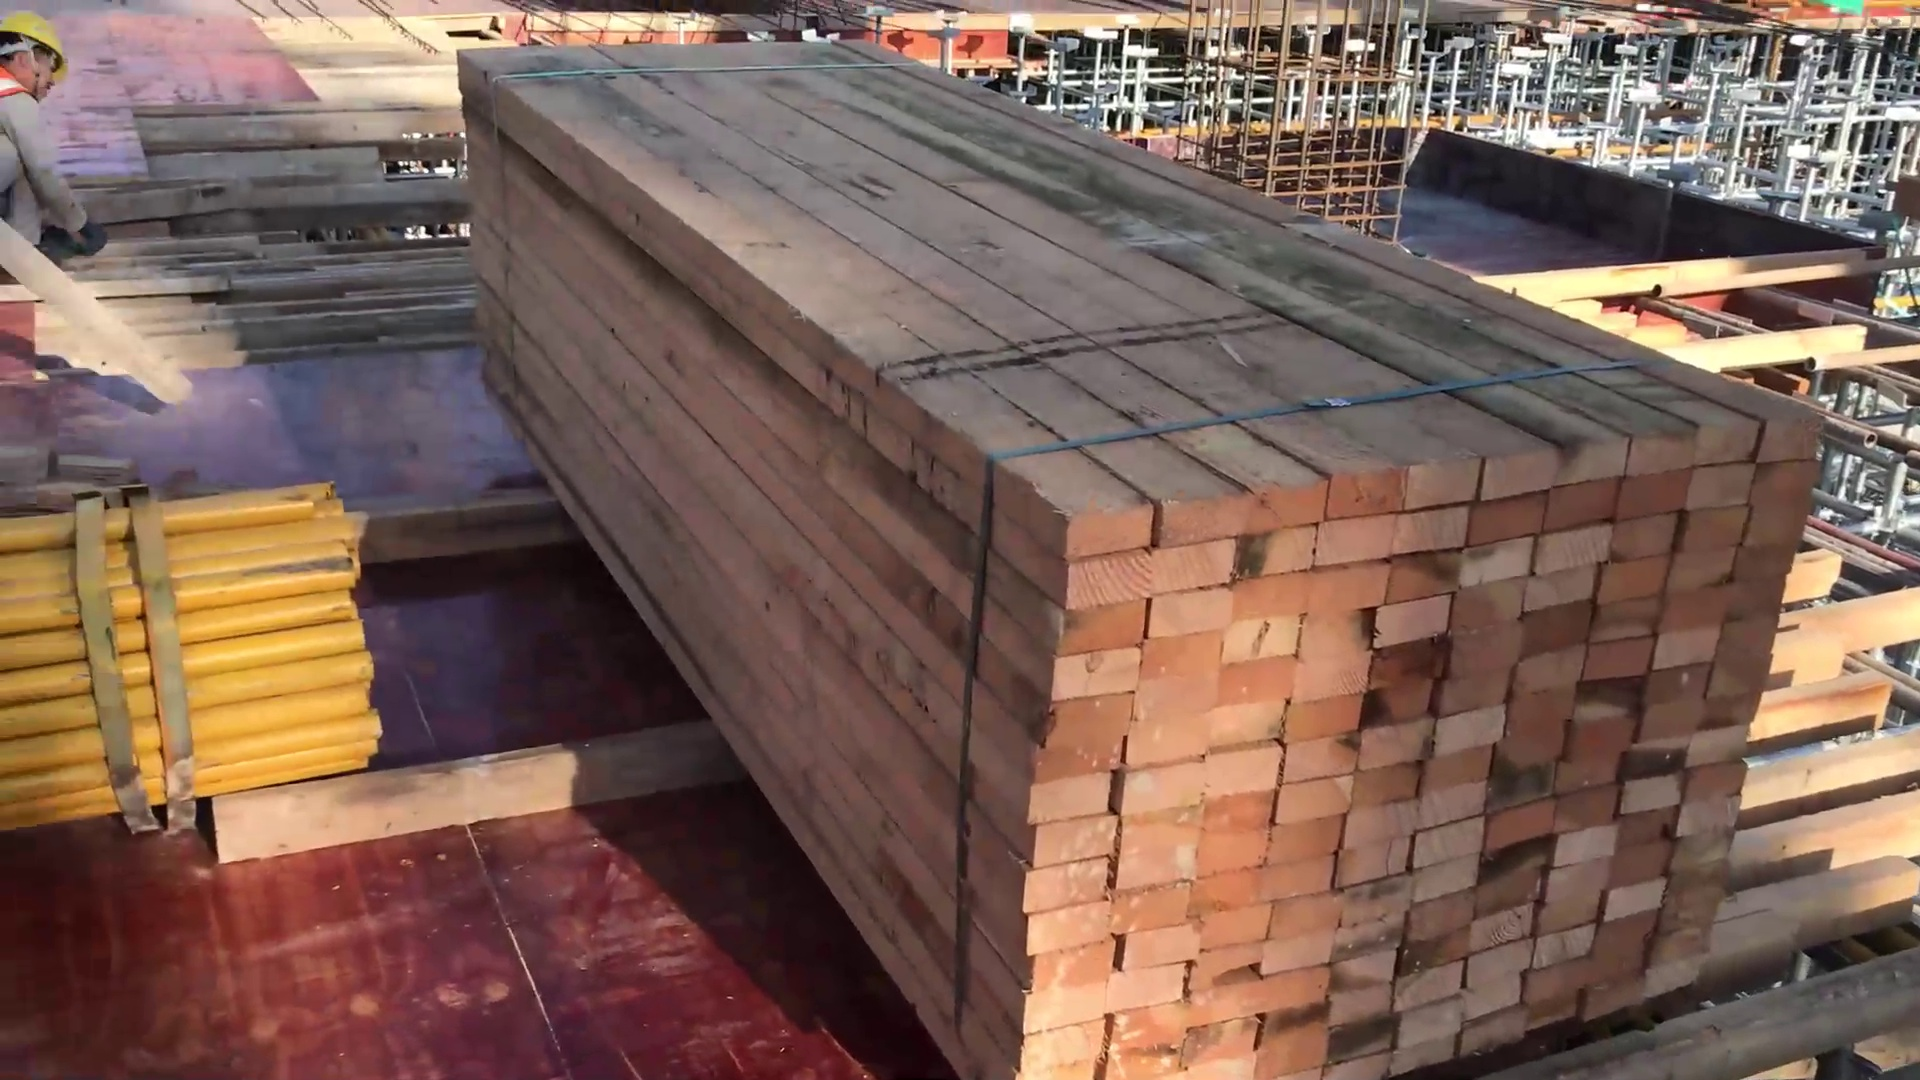helmet: (11, 11, 70, 80)
wood: (450, 15, 1747, 1058)
